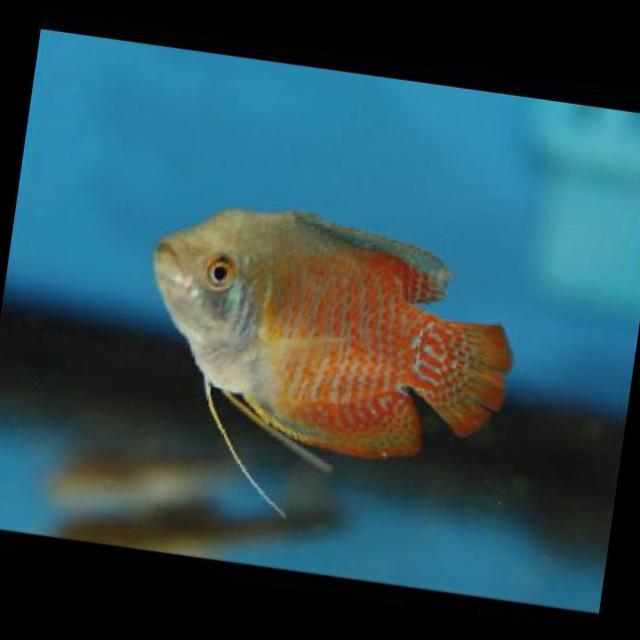Gourami: (131, 190, 531, 470)
